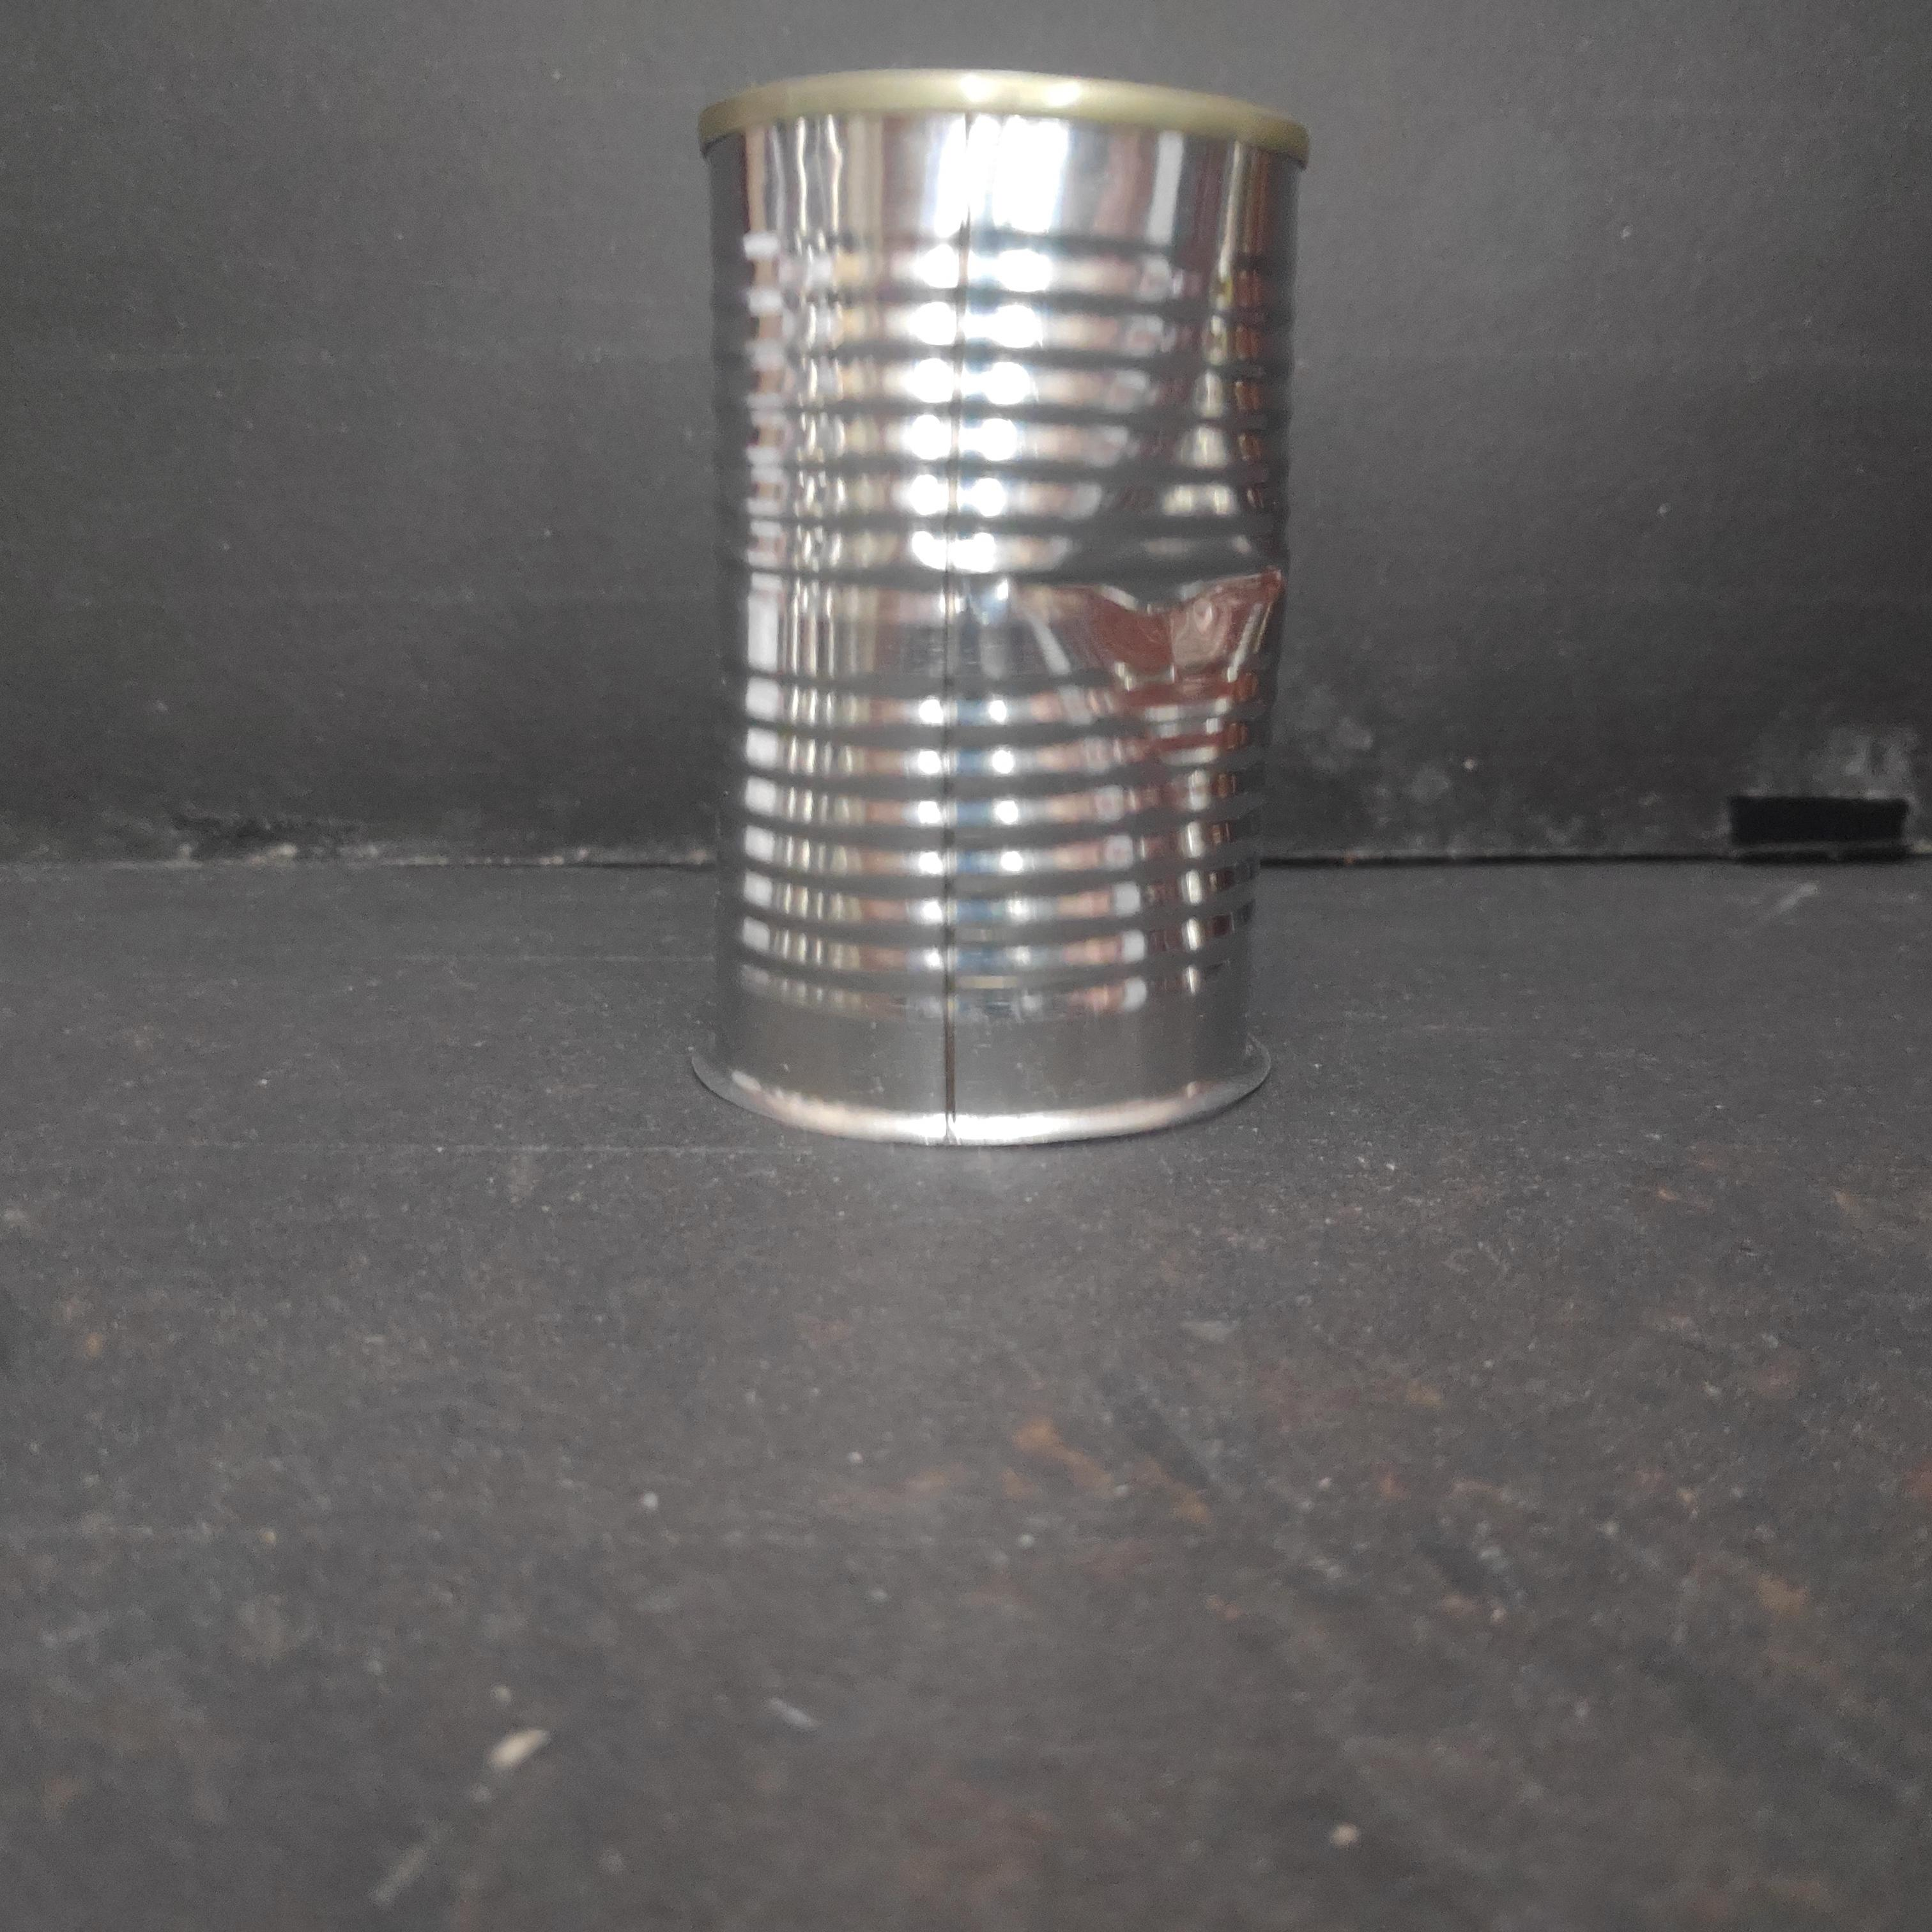Minor Defect: (688, 58, 1323, 1164)
